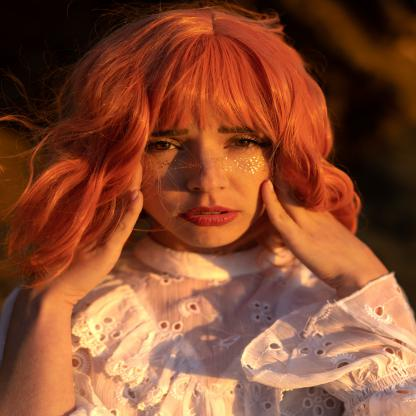Eye: (225, 132, 266, 150), (146, 139, 184, 157)
Mouth: (177, 204, 241, 225)
Nose: (186, 148, 229, 191)
